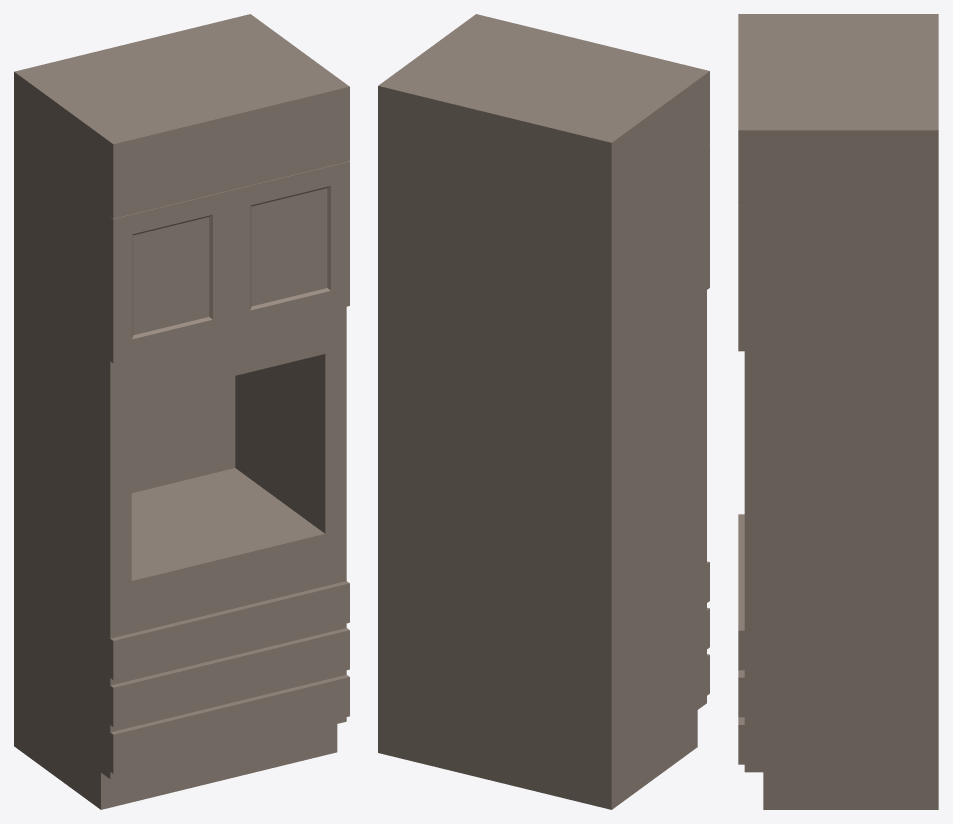
File: Oven-Cabinet-24-Deep.std.glb
3 renders of one model, left to right at view 1: azimuth 30°, elevation 25°; view 2: azimuth 150°, elevation 25°; view 3: azimuth 270°, elevation 25°, orthographic.
Visible parts, largest first — view 1: Oven-Cabinet-24-Deep.std.001; view 2: Oven-Cabinet-24-Deep.std.001; view 3: Oven-Cabinet-24-Deep.std.001.
Boxes of the visible parts, left/top/right/bottom form: Oven-Cabinet-24-Deep.std.001: left=14, top=14, right=349, bottom=809; Oven-Cabinet-24-Deep.std.001: left=378, top=14, right=709, bottom=809; Oven-Cabinet-24-Deep.std.001: left=738, top=14, right=938, bottom=809.
Size of the model in its own units: 0.8382 by 2.29 by 0.6096.
